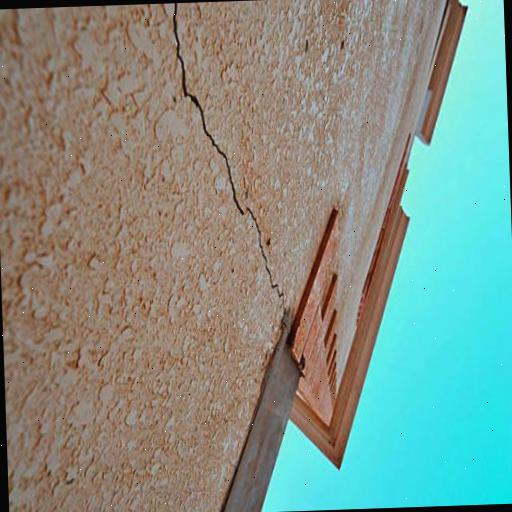spalling: (165, 6, 291, 312)
